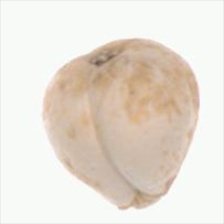L3: (114, 191, 169, 210)
L4: (41, 37, 200, 211)
